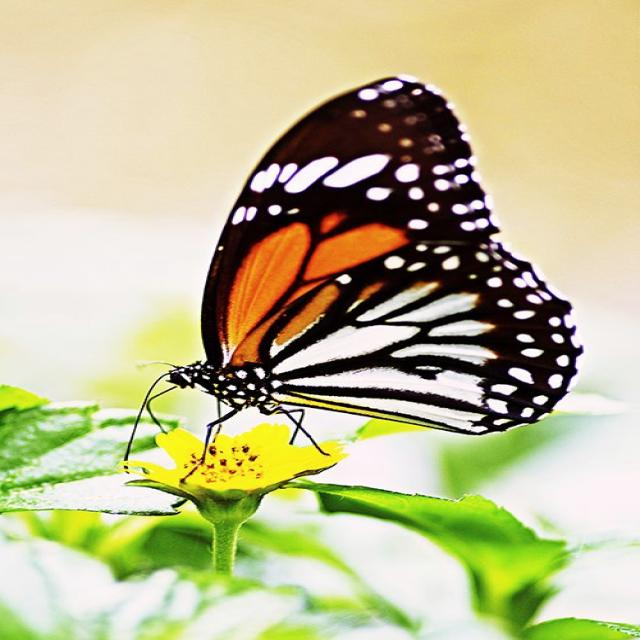butterfly: (127, 78, 584, 460)
